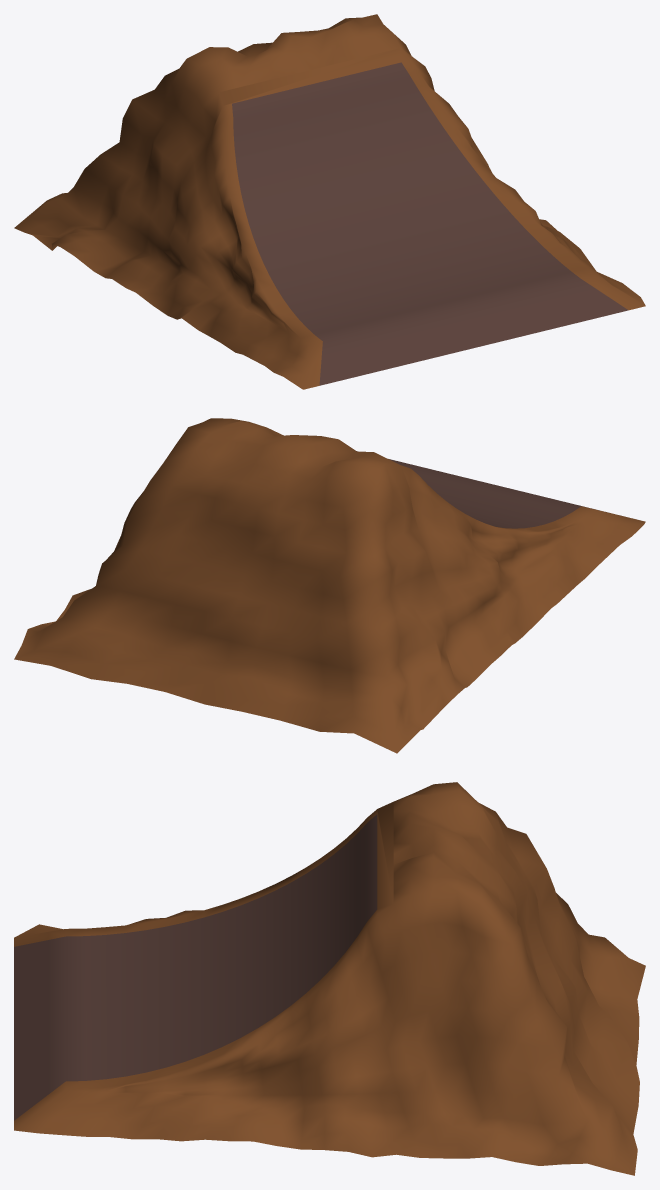
Rendered from DirtJump_Rock.fbx.
3 views of the same model, one above another, from view 1: azimuth 30°, elevation 25°; view 2: azimuth 150°, elevation 25°; view 3: azimuth 270°, elevation 25° (orthographic). The views are drawn at different scales.
Parts seen in each view (by area): view 1: Cube.001; view 2: Cube.001; view 3: Cube.001.
Boxes of the visible parts, left/top/right/bottom form: Cube.001: left=14, top=14, right=645, bottom=389; Cube.001: left=14, top=418, right=645, bottom=753; Cube.001: left=14, top=782, right=645, bottom=1175.
Bounding box in the file's own units: 1725 × 874 × 2065.
